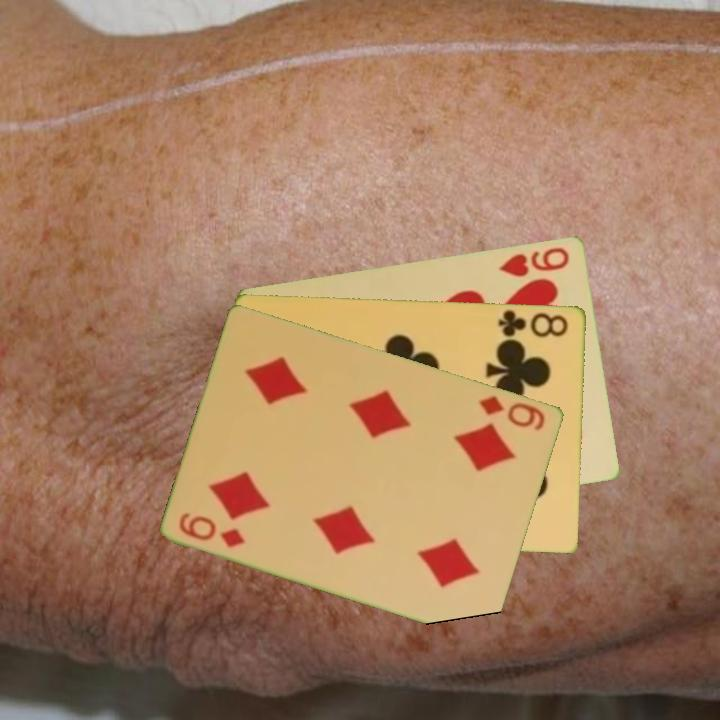6d: (176, 508, 249, 550), (476, 392, 549, 433)
8c: (496, 306, 572, 340)
9h: (496, 243, 572, 279)
